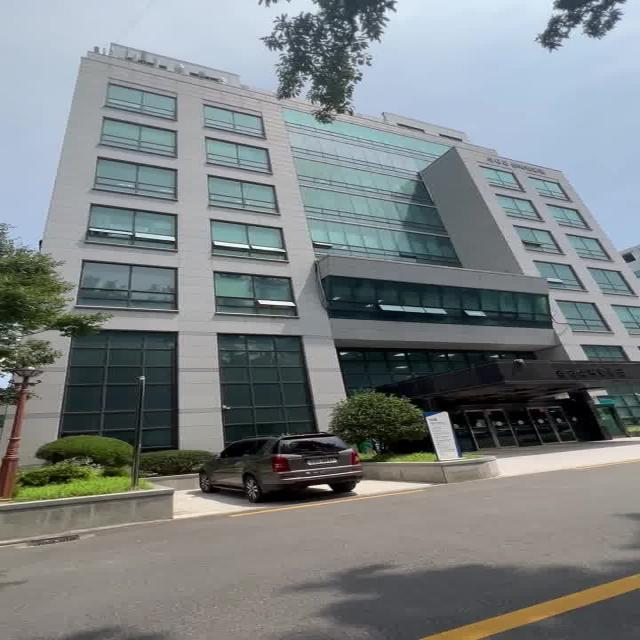building: (58, 49, 640, 441)
